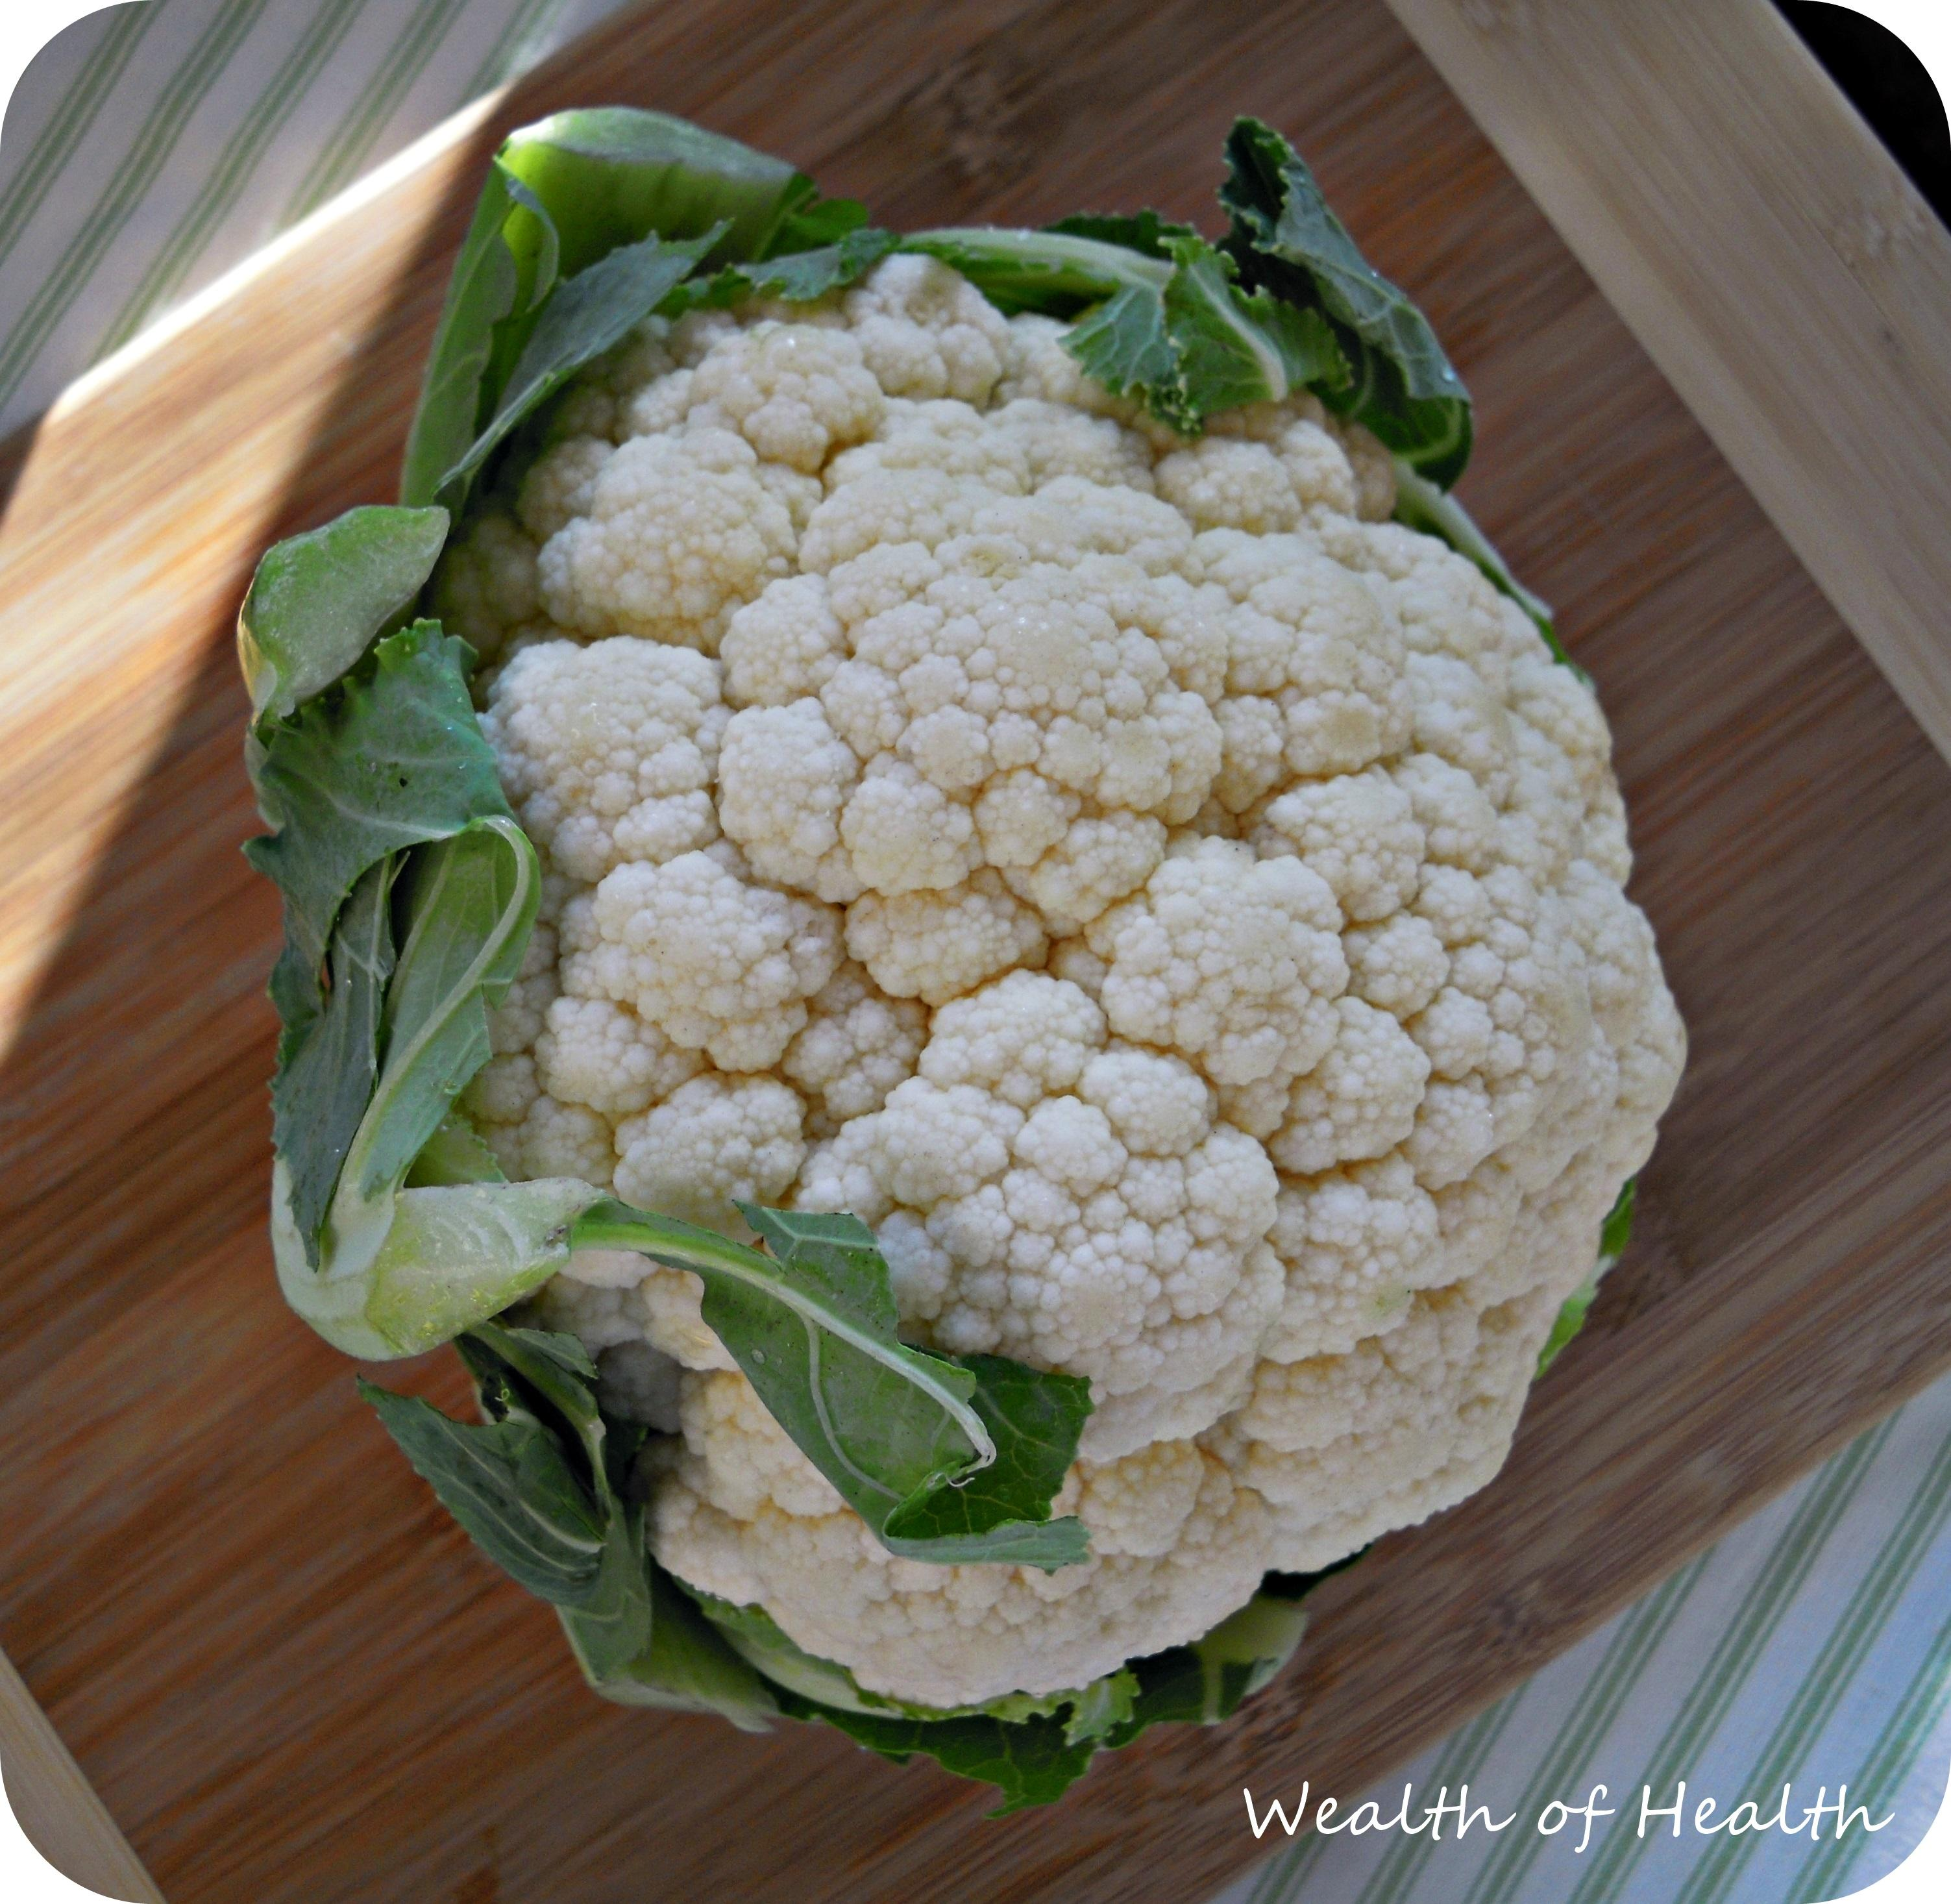cauliflower: (423, 245, 1689, 1722)
